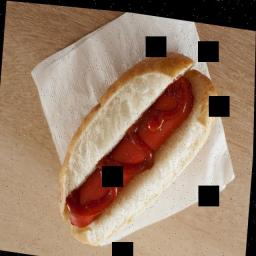hotdog: (54, 32, 223, 256)
